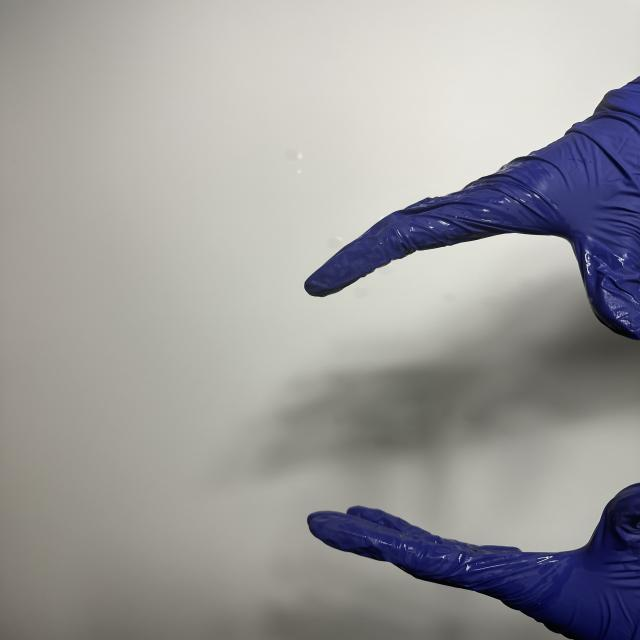gloves_contaminated: (304, 78, 640, 339), (308, 484, 640, 640)
